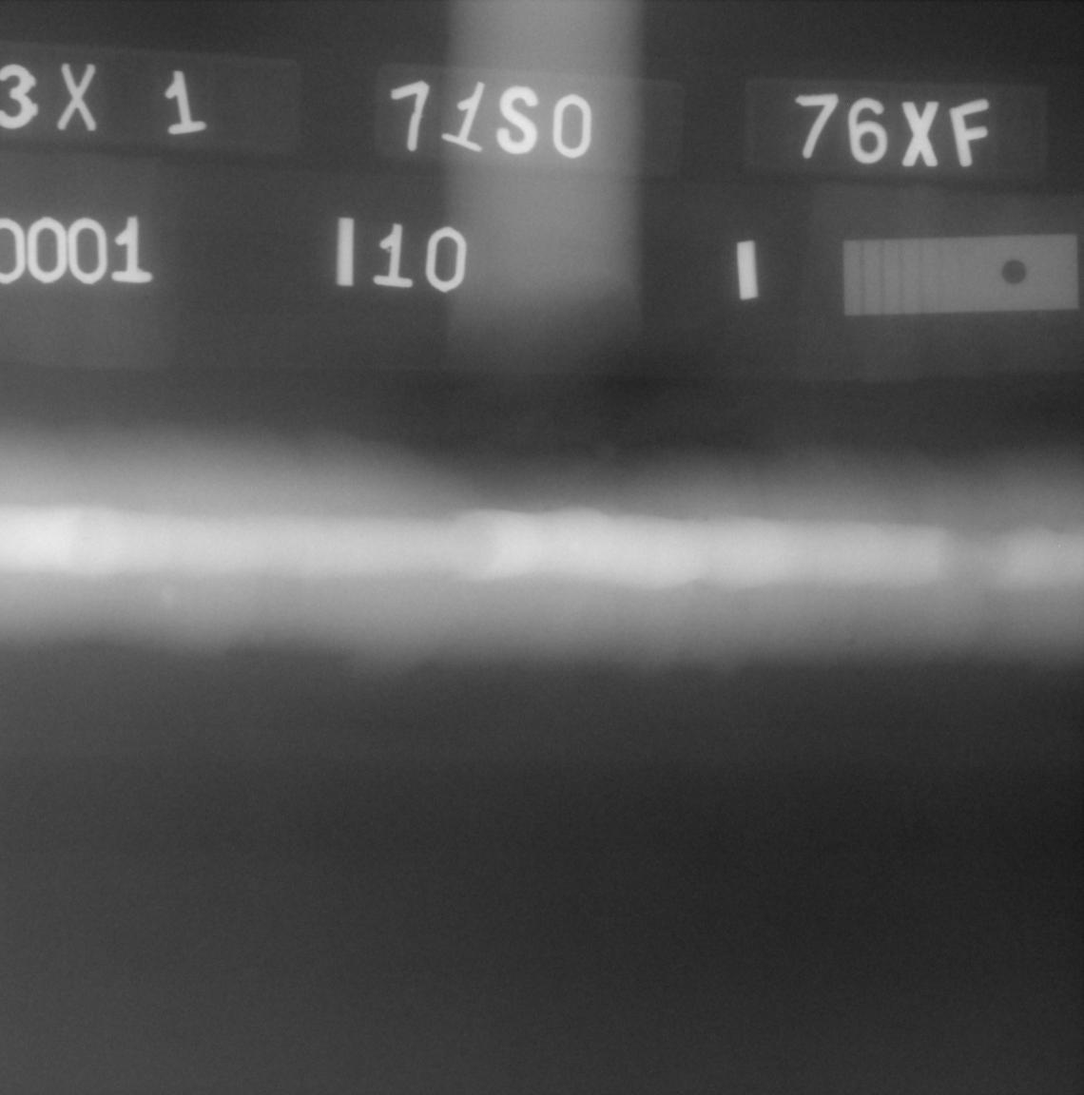Inclusion: (84, 537, 88, 539)
Pore/Porosity: (847, 640, 854, 646)
Reference Standard 1: (843, 234, 1079, 316)
